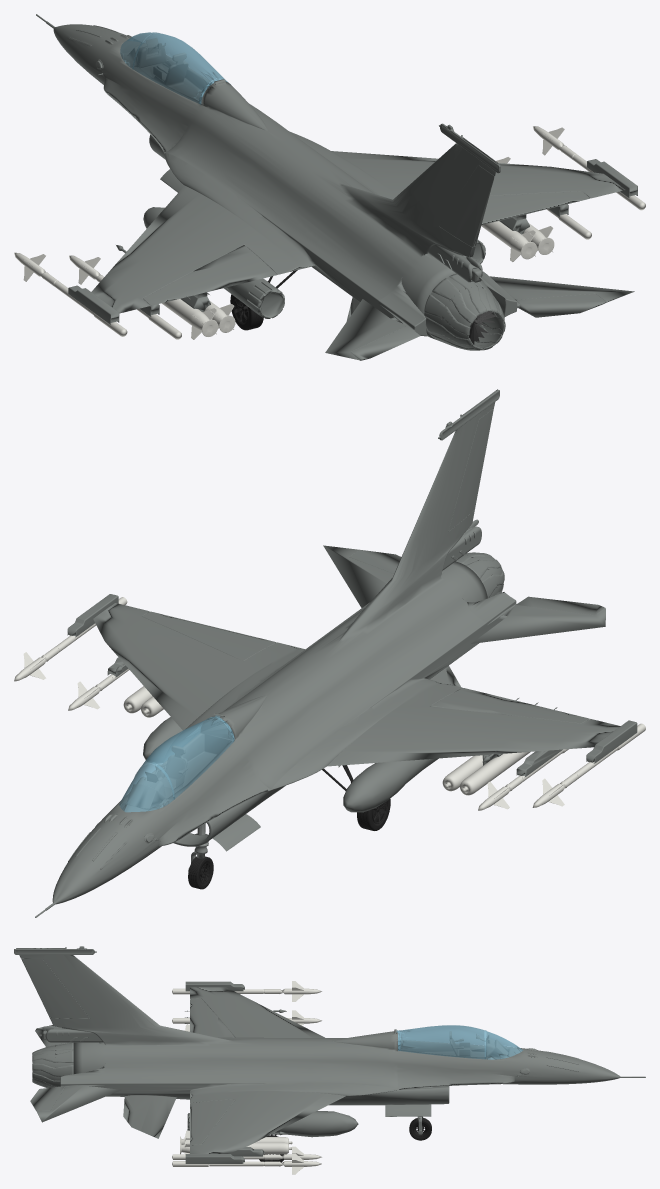
Rendered from f16_cad.glb.
The picture shows the model from 3 angles, top to bottom: view 1: azimuth 30°, elevation 25°; view 2: azimuth 150°, elevation 25°; view 3: azimuth 270°, elevation 25°; orthographic projection. The views are drawn at different scales.
Parts seen in each view (by area): view 1: BodyAssy - Body_2-1_cc52, BodyAssy - Canopi-2, BodyAssy - Rear Stabilizer_Right-1, BodyAssy - Body_2-1_cc31, BodyAssy - Rear Stabilizer_Left-1, BodyAssy - Body_2-1_cc11, BodyAssy - Body_2-1_cc30, BodyAssy - Body_2-1_cc68, BodyAssy - Body_2-1_cc09, BodyAssy - Missile_1SLDPRT-1, BodyAssy - Missile_1SLDPRT-3, BodyAssy - Missile-3 (+9 smaller); view 2: BodyAssy - Body_2-1_cc52, BodyAssy - Canopi-2, BodyAssy - Rear Stabilizer_Left-1, BodyAssy - Body_2-1_cc68, BodyAssy - Rear Stabilizer_Right-1, BodyAssy - Body_2-1_cc31, BodyAssy - Body_2-1_cc30, BodyAssy - Body_2-1_cc11, BodyAssy - Missile_1SLDPRT-1, BodyAssy - Missile-3, BodyAssy - Missile-4, BodyAssy - Body_2-1_cc54 (+3 smaller); view 3: BodyAssy - Body_2-1_cc52, BodyAssy - Canopi-2, BodyAssy - Body_2-1_cc11, BodyAssy - Rear Stabilizer_Right-1, BodyAssy - Body_2-1_cc59, BodyAssy - Body_2-1_cc30, BodyAssy - Body_2-1_cc31, BodyAssy - Missile-4, BodyAssy - Missile-3, BodyAssy - Body_2-1_cc62, BodyAssy - Body_2-1_cc09, BodyAssy - Body_2-1_cc56 (+6 smaller).
Part boxes in pixels (box(x1,y1,x2,y2)): BodyAssy - Body_2-1_cc52: box(36, 14, 625, 339); BodyAssy - Canopi-2: box(120, 32, 229, 104); BodyAssy - Rear Stabilizer_Right-1: box(490, 276, 634, 317); BodyAssy - Body_2-1_cc31: box(143, 245, 277, 305); BodyAssy - Rear Stabilizer_Left-1: box(325, 299, 420, 360); BodyAssy - Body_2-1_cc11: box(439, 165, 494, 246); BodyAssy - Body_2-1_cc30: box(481, 191, 589, 224); BodyAssy - Body_2-1_cc68: box(143, 207, 284, 318); BodyAssy - Body_2-1_cc09: box(424, 277, 504, 349); BodyAssy - Missile_1SLDPRT-1: box(162, 299, 218, 339); BodyAssy - Missile_1SLDPRT-3: box(481, 221, 536, 261); BodyAssy - Missile-3: box(14, 252, 127, 336); BodyAssy - Body_2-1_cc52: box(35, 389, 620, 917); BodyAssy - Canopi-2: box(119, 715, 234, 812); BodyAssy - Rear Stabilizer_Left-1: box(471, 596, 605, 643); BodyAssy - Body_2-1_cc68: box(343, 758, 438, 812); BodyAssy - Rear Stabilizer_Right-1: box(323, 545, 401, 607); BodyAssy - Body_2-1_cc31: box(430, 688, 589, 723); BodyAssy - Body_2-1_cc30: box(142, 611, 276, 661); BodyAssy - Body_2-1_cc11: box(448, 408, 493, 531); BodyAssy - Missile_1SLDPRT-1: box(460, 752, 530, 795); BodyAssy - Missile-3: box(532, 723, 645, 807); BodyAssy - Missile-4: box(14, 597, 127, 681); BodyAssy - Body_2-1_cc54: box(586, 720, 637, 763); BodyAssy - Body_2-1_cc52: box(14, 946, 645, 1153); BodyAssy - Canopi-2: box(396, 1025, 522, 1059); BodyAssy - Body_2-1_cc11: box(21, 958, 89, 1018); BodyAssy - Rear Stabilizer_Right-1: box(30, 1085, 120, 1122); BodyAssy - Body_2-1_cc59: box(187, 1111, 358, 1137); BodyAssy - Body_2-1_cc30: box(190, 1099, 235, 1145); BodyAssy - Body_2-1_cc31: box(190, 998, 235, 1037); BodyAssy - Missile-4: box(172, 1153, 321, 1174); BodyAssy - Missile-3: box(172, 981, 321, 1001); BodyAssy - Body_2-1_cc62: box(385, 1104, 431, 1116); BodyAssy - Body_2-1_cc09: box(32, 1042, 73, 1087); BodyAssy - Body_2-1_cc56: box(185, 1154, 244, 1163).
Bounding box in the file's own units: 10.11 × 5.16 × 15.06.
